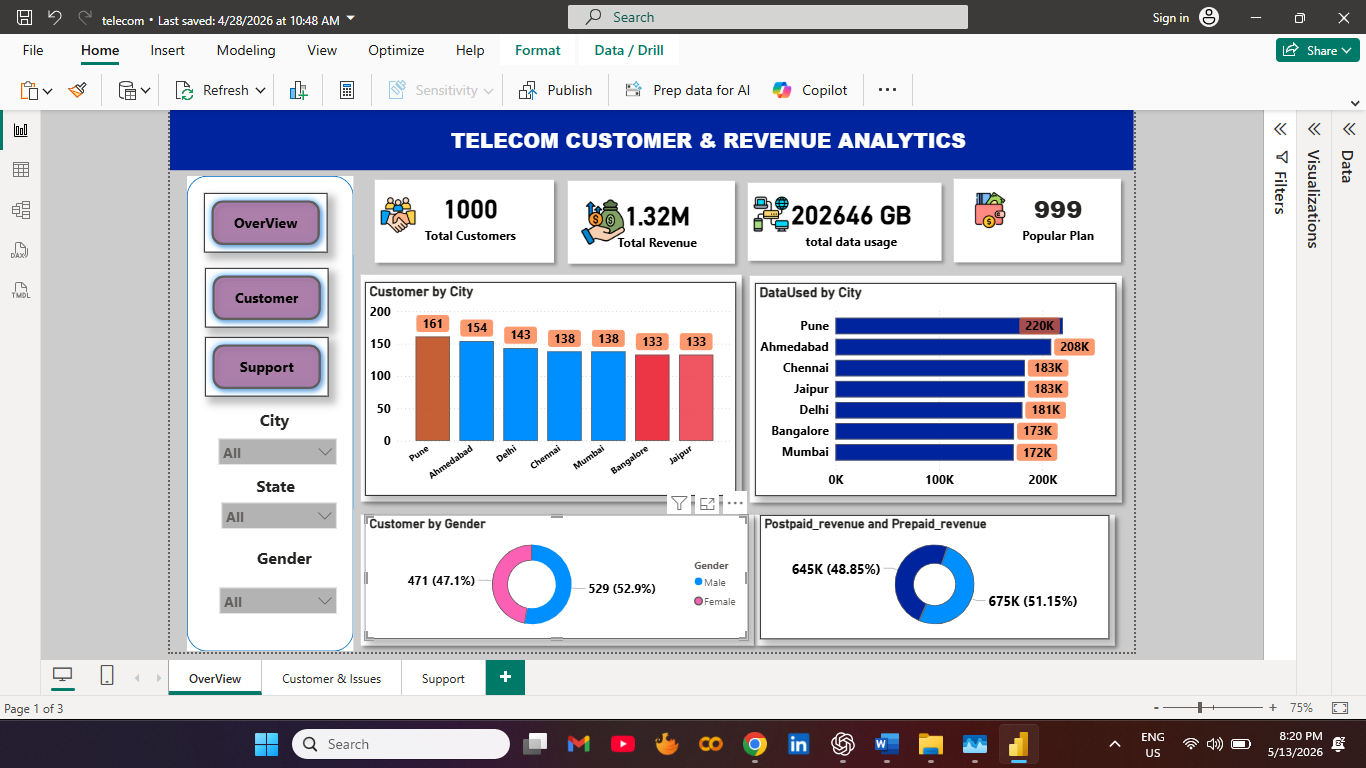

The page's visual inventory and layout, read from the dashboard file:
{"tool":"powerbi","page":{"name":"OverView","canvas":[1280,720],"ordinal":0},"visuals":[{"type":"shape","box":[0,0,1280,80],"z":0},{"type":"shape","box":[263.4,83.4,256,128],"z":0,"group":"g10"},{"type":"shape","box":[761,210.7,512.2,319],"z":0,"group":"g4"},{"type":"group","id":"g1","title":"Group 4","box":[244.4,528.3,540,191.7],"z":0,"group":"g9"},{"type":"shape","box":[758.6,87.8,275.1,121.5],"z":1000,"group":"g7"},{"type":"card","fields":{"Values":["Cust_Measure.Total Customers"]},"box":[279.4,99.4,240,80],"z":1000,"group":"g10"},{"type":"group","id":"g2","title":"Group 4","box":[244.4,209.3,523.9,319],"z":1000},{"type":"shape","box":[244.4,209.3,523.9,319],"z":1000,"group":"g2"},{"type":"clusteredBarChart","title":"DataUsed by City","fields":{"Category":["CustomerMaster.City"],"Y":["Cust_Measure.Total Revenue"]},"box":[776.8,229,480,282.6],"z":1000,"group":"g4"},{"type":"shape","box":[244.4,528.3,540,191.7],"z":1000,"group":"g1"},{"type":"shape","box":[768.3,528.3,496.1,191.7],"z":1000,"group":"g3"},{"type":"image","box":[263.4,115.4,80,48],"z":2000,"group":"g10"},{"type":"group","id":"g3","title":"Group 4","box":[768.3,528.3,496.1,191.7],"z":2000},{"type":"textbox","box":[368,16,752,64],"z":3000},{"type":"shape","box":[519.5,84.9,240,128],"z":3000,"group":"g6"},{"type":"card","fields":{"Values":["Cust_Measure.Total Revenue"]},"box":[567.5,100.9,160,96],"z":4000,"group":"g6"},{"type":"group","id":"g4","title":"Group 5","box":[761,210.7,512.2,319],"z":4000},{"type":"image","box":[535.5,116.9,80,64],"z":5000,"group":"g6"},{"type":"donutChart","fields":{"Y":["Cust_Measure.Postpaid_revenue","Cust_Measure.Prepaid_revenue"]},"box":[784.4,538.5,463.9,165.4],"z":5000},{"type":"shape","box":[22.7,87.8,221.1,631.4],"z":6000},{"type":"textbox","box":[39.4,480,201.4,48.5],"z":7000},{"type":"textbox","box":[46.8,392.2,184.4,48.3],"z":8000},{"type":"group","id":"g5","title":"Group 1","box":[263.4,83.4,256.1,127.3],"z":9000},{"type":"card","fields":{"Values":["Usage_Measure.total data usage"]},"box":[792.8,83.4,223.9,127.3],"z":9000,"group":"g7"},{"type":"group","id":"g6","title":"Group 3","box":[519.5,84.9,240,127.3],"z":10000},{"type":"image","box":[758,113.3,80,48],"z":10000,"group":"g7"},{"type":"group","id":"g7","title":"Group 4","box":[758,83.4,275.1,127.3],"z":11000},{"type":"group","id":"g8","title":"Group 6","box":[1031.7,77.8,240,132.6],"z":12000},{"type":"group","id":"g9","title":"Group 7","box":[244.4,528.3,540,191.7],"z":13000},{"type":"slicer","fields":{"Values":["CustomerMaster.City"]},"box":[54.5,427,177.2,65.1],"z":14000},{"type":"slicer","fields":{"Values":["CustomerMaster.State"]},"box":[59.1,511.8,172.6,63.6],"z":15000},{"type":"donutChart","title":"Customer  by Gender","fields":{"Category":["CustomerMaster.Gender"],"Y":["Cust_Measure.customer count"]},"box":[259,538.5,509.3,165.4],"z":16000},{"type":"clusteredColumnChart","title":"Customer by City","fields":{"Category":["CustomerMaster.City"],"Y":["Cust_Measure.customer count"]},"box":[259,228.3,493.2,283.9],"z":17000},{"type":"actionButton","title":"Over","box":[45.4,109.8,163.9,79],"z":18000},{"type":"actionButton","title":"Over","box":[46.8,209.3,163.9,79],"z":19000},{"type":"shape","box":[1031.7,81.6,240,128.8],"z":20000,"group":"g8"},{"type":"actionButton","title":"Over","box":[46.8,301.5,163.9,79],"z":20000},{"type":"image","box":[1033.4,108.7,112,48],"z":20250,"group":"g8"},{"type":"card","fields":{"Values":["Cust_Measure.Popular Plan"]},"box":[1092.1,77.8,175.6,127.3],"z":20500,"group":"g8"},{"type":"group","id":"g10","title":"Group 2","box":[263.4,83.4,256.1,127.3],"z":20501,"group":"g5"},{"type":"textbox","box":[93.9,575.4,115.1,45.4],"z":21000},{"type":"slicer","fields":{"Values":["CustomerMaster.Gender"]},"box":[56,623.9,175.6,63.6],"z":22000}]}

Visuals, with their boxes on the page's 1280x720 design canvas (x1, y1, x2, y2). These are canvas units, not pixel positions in the 1366x768 screenshot, which may show the page scaled, cropped or inside an application window:
shape: [x1=0, y1=0, x2=1280, y2=80]
shape: [x1=263, y1=83, x2=519, y2=211]
shape: [x1=761, y1=211, x2=1273, y2=530]
"Group 4" group: [x1=244, y1=528, x2=784, y2=720]
shape: [x1=759, y1=88, x2=1034, y2=209]
card - Cust_Measure.Total Customers: [x1=279, y1=99, x2=519, y2=179]
"Group 4" group: [x1=244, y1=209, x2=768, y2=528]
shape: [x1=244, y1=209, x2=768, y2=528]
"DataUsed by City" clusteredBarChart: [x1=777, y1=229, x2=1257, y2=512]
shape: [x1=244, y1=528, x2=784, y2=720]
shape: [x1=768, y1=528, x2=1264, y2=720]
image: [x1=263, y1=115, x2=343, y2=163]
"Group 4" group: [x1=768, y1=528, x2=1264, y2=720]
textbox: [x1=368, y1=16, x2=1120, y2=80]
shape: [x1=520, y1=85, x2=760, y2=213]
card - Cust_Measure.Total Revenue: [x1=568, y1=101, x2=728, y2=197]
"Group 5" group: [x1=761, y1=211, x2=1273, y2=530]
image: [x1=536, y1=117, x2=616, y2=181]
donutChart - Cust_Measure.Postpaid_revenue x Cust_Measure.Prepaid_revenue: [x1=784, y1=538, x2=1248, y2=704]
shape: [x1=23, y1=88, x2=244, y2=719]
textbox: [x1=39, y1=480, x2=241, y2=528]
textbox: [x1=47, y1=392, x2=231, y2=440]
"Group 1" group: [x1=263, y1=83, x2=520, y2=211]
card - Usage_Measure.total data usage: [x1=793, y1=83, x2=1017, y2=211]
"Group 3" group: [x1=520, y1=85, x2=760, y2=212]
image: [x1=758, y1=113, x2=838, y2=161]
"Group 4" group: [x1=758, y1=83, x2=1033, y2=211]
"Group 6" group: [x1=1032, y1=78, x2=1272, y2=210]
"Group 7" group: [x1=244, y1=528, x2=784, y2=720]
slicer - CustomerMaster.City: [x1=54, y1=427, x2=232, y2=492]
slicer - CustomerMaster.State: [x1=59, y1=512, x2=232, y2=575]
"Customer  by Gender" donutChart: [x1=259, y1=538, x2=768, y2=704]
"Customer by City" clusteredColumnChart: [x1=259, y1=228, x2=752, y2=512]
"Over" actionButton: [x1=45, y1=110, x2=209, y2=189]
"Over" actionButton: [x1=47, y1=209, x2=211, y2=288]
shape: [x1=1032, y1=82, x2=1272, y2=210]
"Over" actionButton: [x1=47, y1=302, x2=211, y2=380]
image: [x1=1033, y1=109, x2=1145, y2=157]
card - Cust_Measure.Popular Plan: [x1=1092, y1=78, x2=1268, y2=205]
"Group 2" group: [x1=263, y1=83, x2=520, y2=211]
textbox: [x1=94, y1=575, x2=209, y2=621]
slicer - CustomerMaster.Gender: [x1=56, y1=624, x2=232, y2=688]
